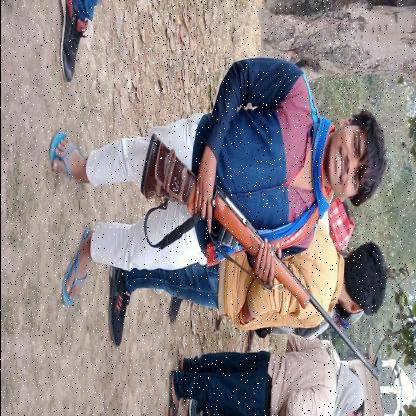rifle: (138, 128, 384, 384)
